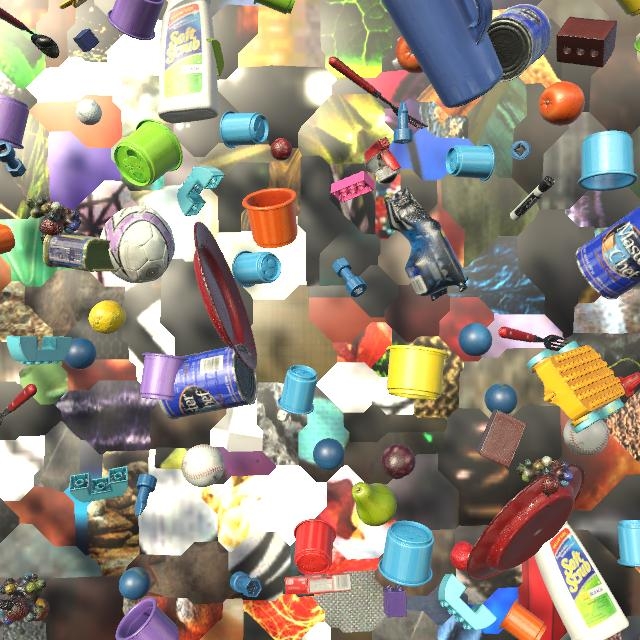ycb_002_master_chef_can: (158, 344, 258, 419), (576, 206, 640, 300), (487, 4, 552, 82)
ycb_008_pudding_box: (0, 622, 4, 640)
ycb_009_gelatin_box: (285, 573, 351, 595)
ycb_010_potted_meat_can: (43, 232, 117, 272)
ycb_012_strawberry: (450, 541, 473, 571)
ycb_014_lemon: (89, 300, 126, 334)
ycb_016_pear: (352, 482, 397, 526)
ycb_017_orange: (539, 81, 585, 126), (396, 36, 423, 74)
ycb_018_plum: (381, 444, 416, 479)
